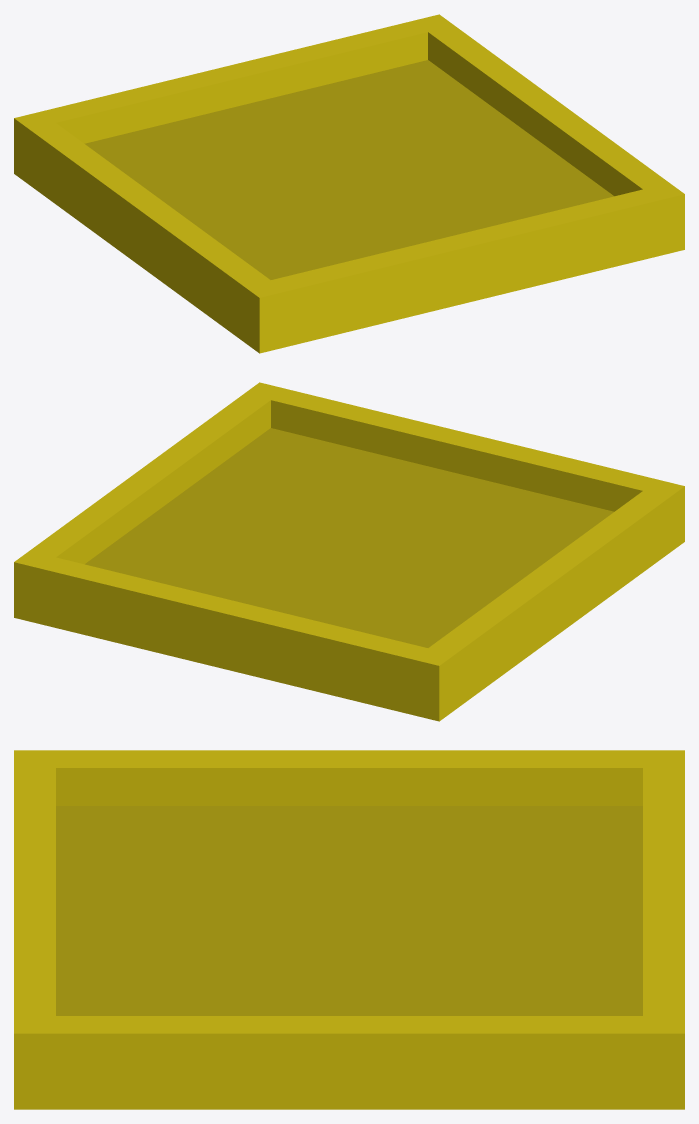
Rendered from DropSpot4.dae.
3 views of the same model, one above another, from view 1: azimuth 30°, elevation 25°; view 2: azimuth 150°, elevation 25°; view 3: azimuth 270°, elevation 25° (orthographic). The views are drawn at different scales.
Visible parts, largest first — view 1: SketchUp (×4); view 2: SketchUp (×4); view 3: SketchUp (×4).
Boxes of the visible parts, box(x1,y1,x2,y2) form: SketchUp (×4): box(14, 14, 684, 353); SketchUp (×4): box(14, 382, 684, 721); SketchUp (×4): box(14, 750, 684, 1109).
Bounding box in the file's own units: 1 × 1 × 0.125.
